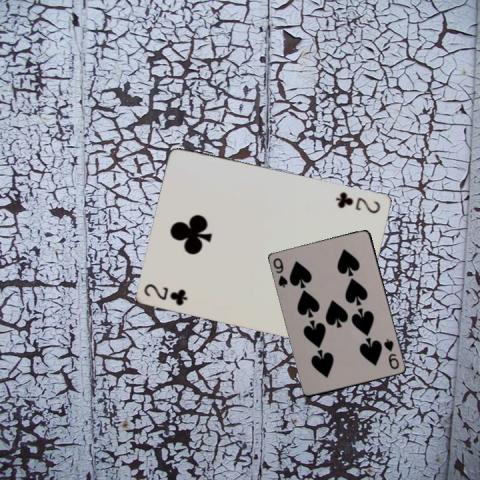2c: (142, 280, 190, 307), (333, 188, 382, 214)
9s: (381, 336, 401, 371), (270, 255, 289, 289)
